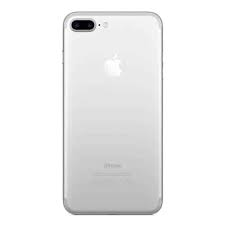iphone: (60, 9, 163, 216)
